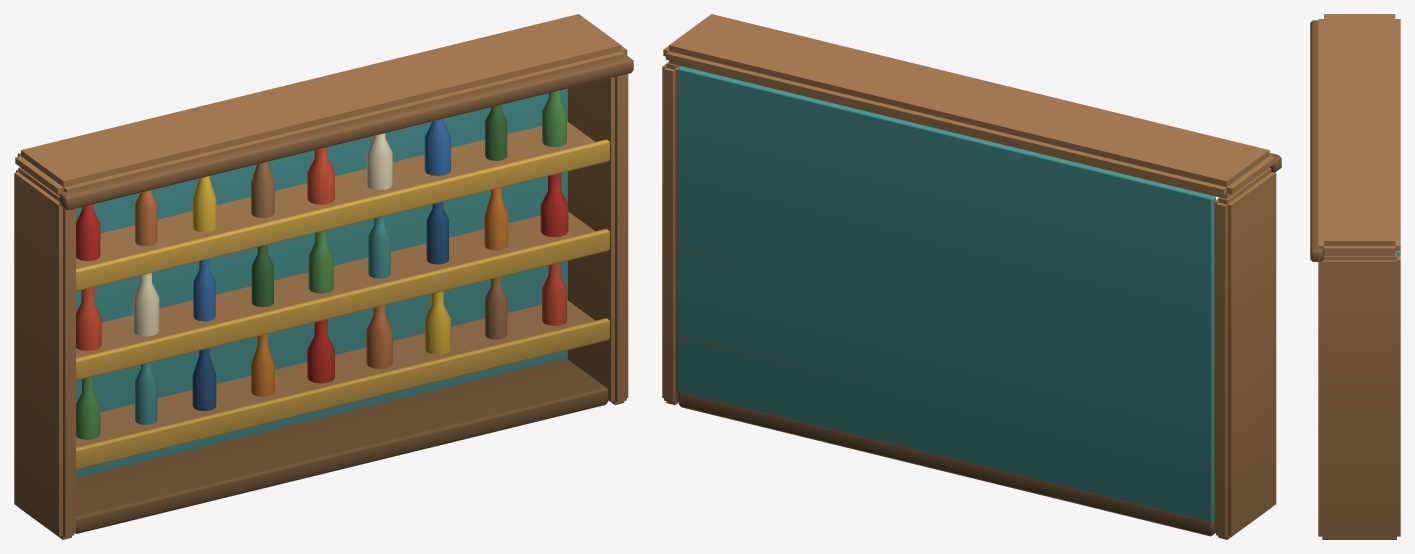
File: SM_BackBar_Shelves_20.glb
3 renders of one model, left to right at view 1: azimuth 30°, elevation 25°; view 2: azimuth 150°, elevation 25°; view 3: azimuth 270°, elevation 25°, orthographic. The views are drawn at different scales.
Parts seen in each view (by area): view 1: SM_BackBar_Shelves_20; view 2: SM_BackBar_Shelves_20; view 3: SM_BackBar_Shelves_20.
Boxes of the visible parts, x1,y1,x2,y2 form: SM_BackBar_Shelves_20: [14, 14, 633, 539]; SM_BackBar_Shelves_20: [662, 14, 1281, 539]; SM_BackBar_Shelves_20: [1310, 14, 1400, 539].
Bounding box in the file's own units: 2 × 1.2 × 0.33.
Materials: 1 (1 with a texture image).
